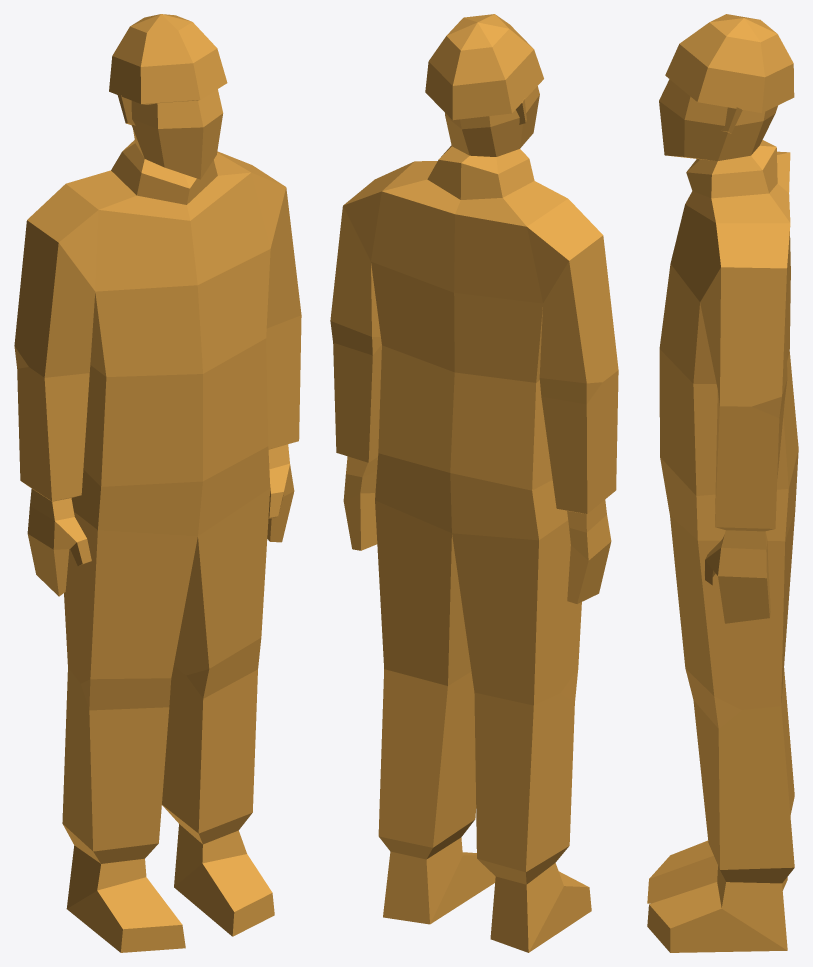
File: man-winter.fbx
3 views of the same model, side by side, from view 1: azimuth 30°, elevation 25°; view 2: azimuth 150°, elevation 25°; view 3: azimuth 270°, elevation 25° (orthographic).
Visible parts, largest first — view 1: man-winter; view 2: man-winter; view 3: man-winter.
Part boxes in pixels (x1,y1,x2,y2): man-winter: (14, 14, 301, 952); man-winter: (330, 14, 618, 952); man-winter: (647, 14, 798, 952).
Size of the model in its own units: 0.5518 by 1.83 by 0.2804.
